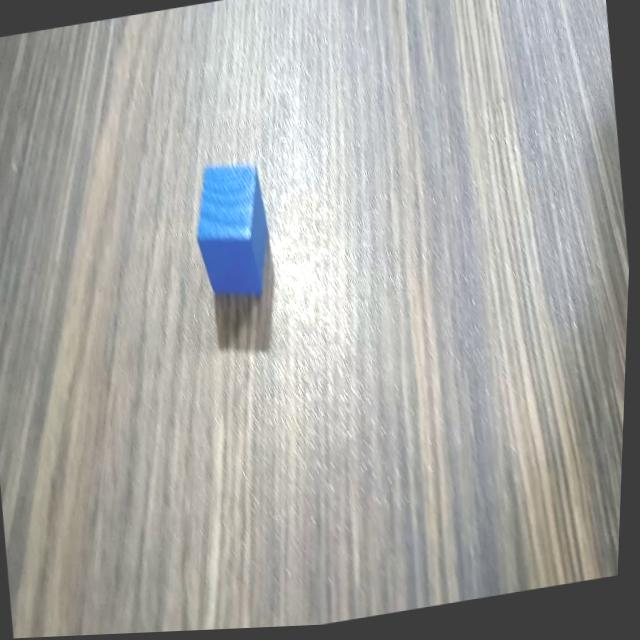cube: (184, 153, 283, 310)
